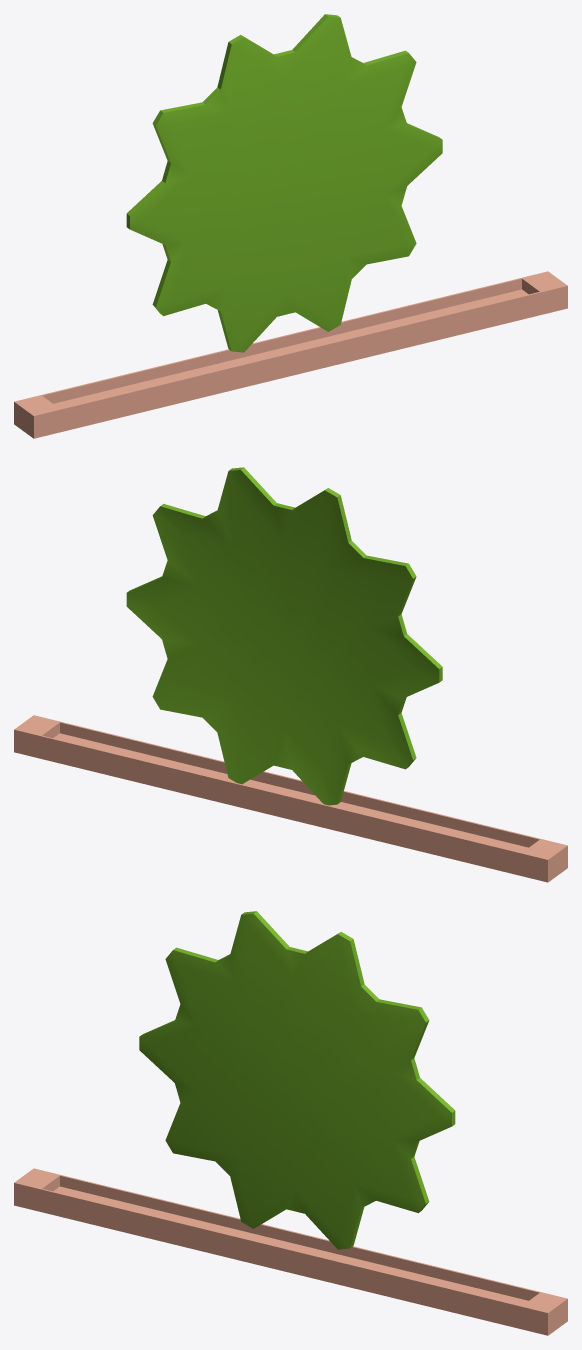
The model's file is cark.fbx.
The picture shows the model from 3 angles, top to bottom: view 1: azimuth 30°, elevation 25°; view 2: azimuth 150°, elevation 25°; view 3: azimuth 330°, elevation 25°; orthographic projection.
Visible parts, largest first — view 1: Circle, Cube; view 2: Circle, Cube; view 3: Circle, Cube.
Boxes of the visible parts, box(x1,y1,x2,y2) form: Circle: box(126, 14, 442, 352); Cube: box(14, 271, 567, 438); Circle: box(126, 467, 442, 805); Cube: box(14, 715, 567, 882); Circle: box(139, 911, 455, 1249); Cube: box(14, 1168, 567, 1335).
Bounding box in the file's own units: 399 × 240 × 25.69.
1 material, 1 textured.
